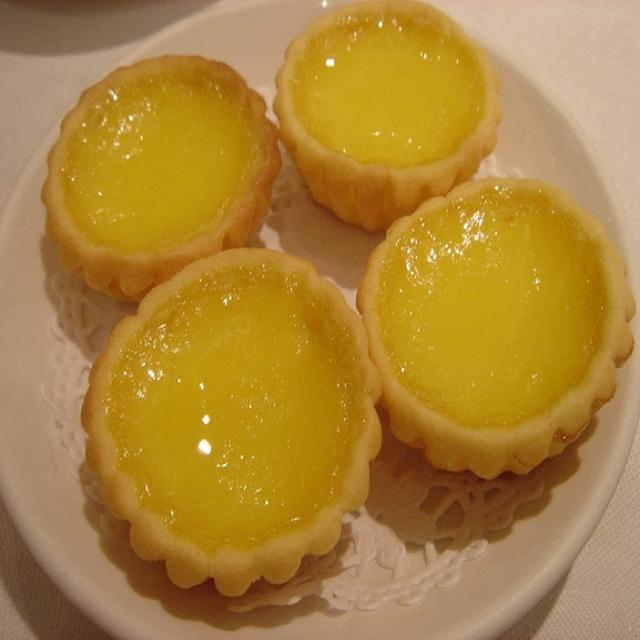炸货点心: (10, 10, 631, 612)
蛋糕甜品: (10, 10, 631, 612)
